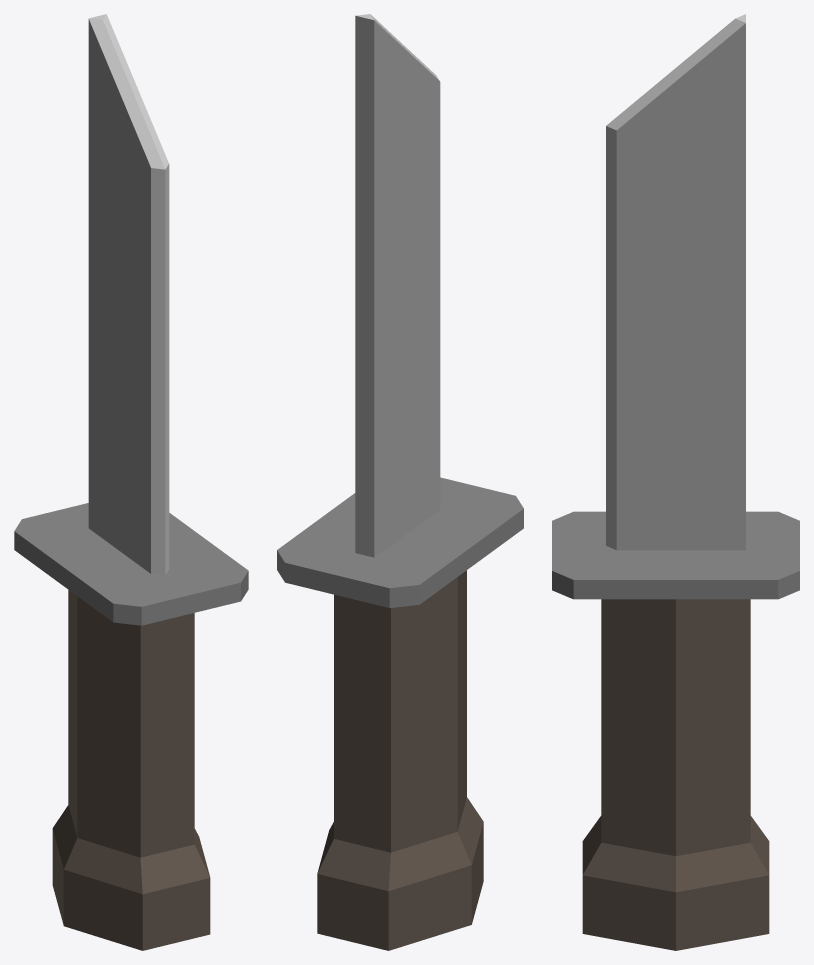
File: knife_sharp.obj
The picture shows the model from 3 angles, left to right: view 1: azimuth 30°, elevation 25°; view 2: azimuth 150°, elevation 25°; view 3: azimuth 270°, elevation 25°; orthographic projection. The views are drawn at different scales.
Visible parts, largest first — view 1: knife_sharp; view 2: knife_sharp; view 3: knife_sharp.
Boxes of the visible parts, x1=… form: knife_sharp: x1=14, y1=14, x2=248, y2=950; knife_sharp: x1=277, y1=14, x2=523, y2=950; knife_sharp: x1=552, y1=14, x2=799, y2=950.
Bounding box in the file's own units: 0.009 × 0.0552 × 0.0138.
